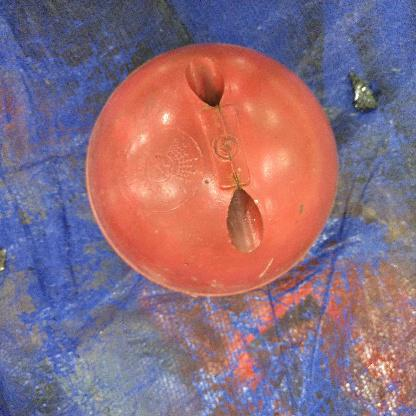red_buoy: (84, 41, 340, 296)
